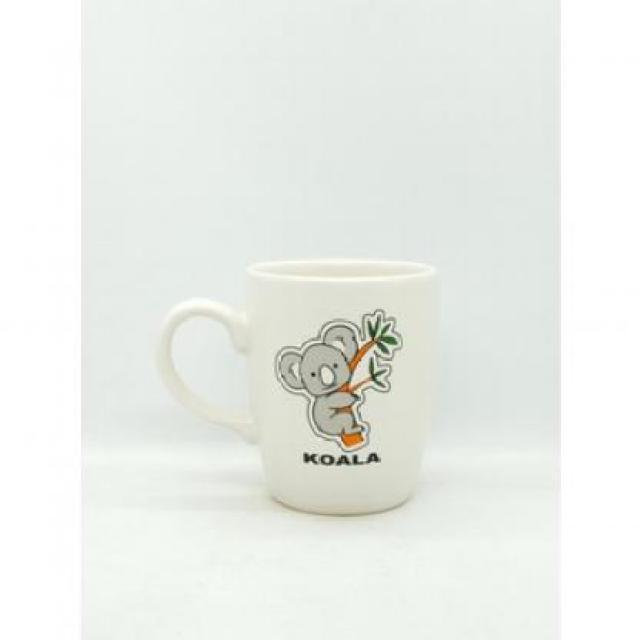taza: (156, 256, 441, 514)
